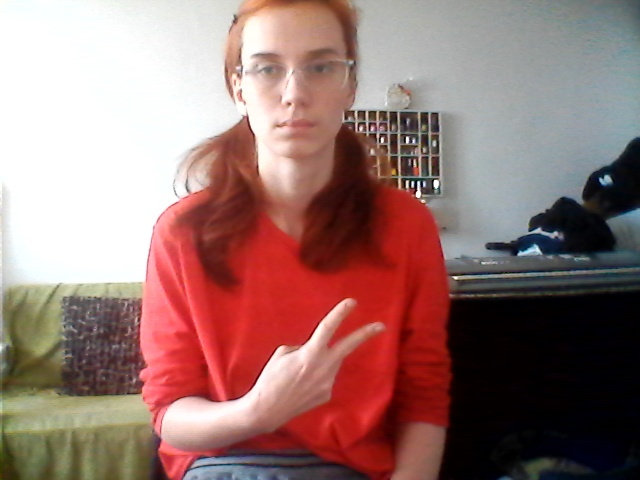v: (270, 293, 408, 427)
